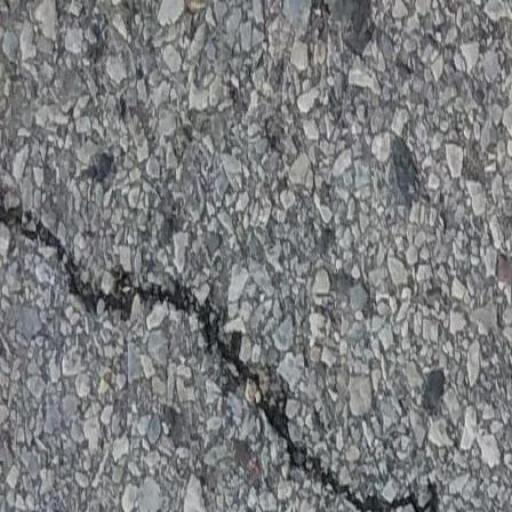spalling: (5, 194, 445, 509)
